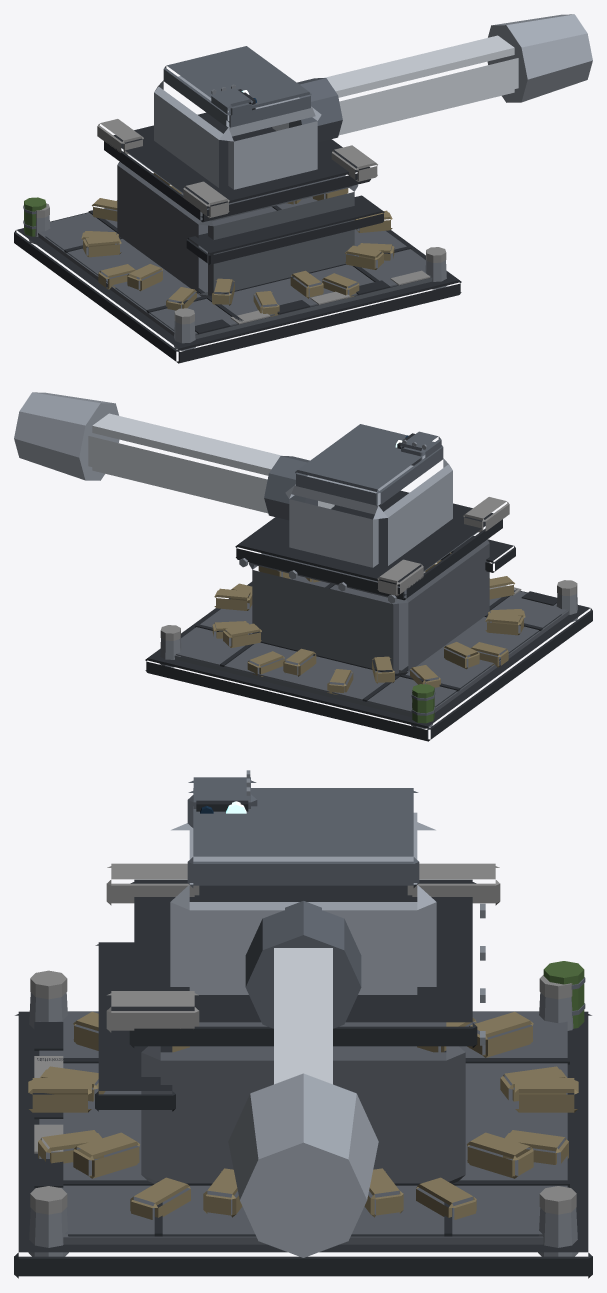
Rendered from con_bastion.glb.
3 views of the same model, one above another, from view 1: azimuth 30°, elevation 25°; view 2: azimuth 150°, elevation 25°; view 3: azimuth 270°, elevation 25° (orthographic). The views are drawn at different scales.
Visible parts, largest first — view 1: body, turret; view 2: body, turret; view 3: body, turret.
Boxes of the visible parts, x1,y1,x2,y2 form: body: (14,112,461,363); turret: (154,14,592,189); body: (145,490,592,741); turret: (14,392,452,567); body: (14,863,592,1278); turret: (170,770,436,1257).
Size of the model in its own units: 80.64 by 32.37 by 48.
